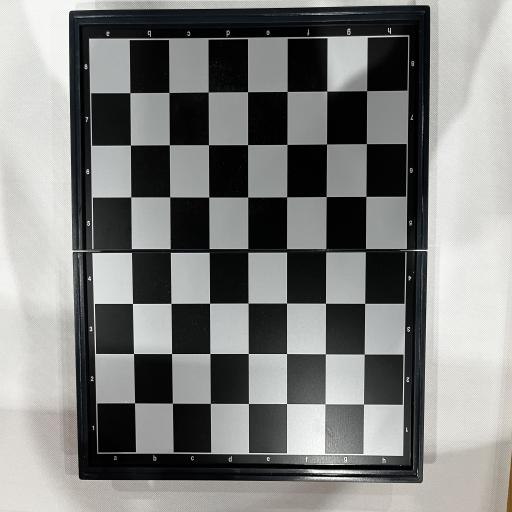Board: (72, 5, 434, 483)
